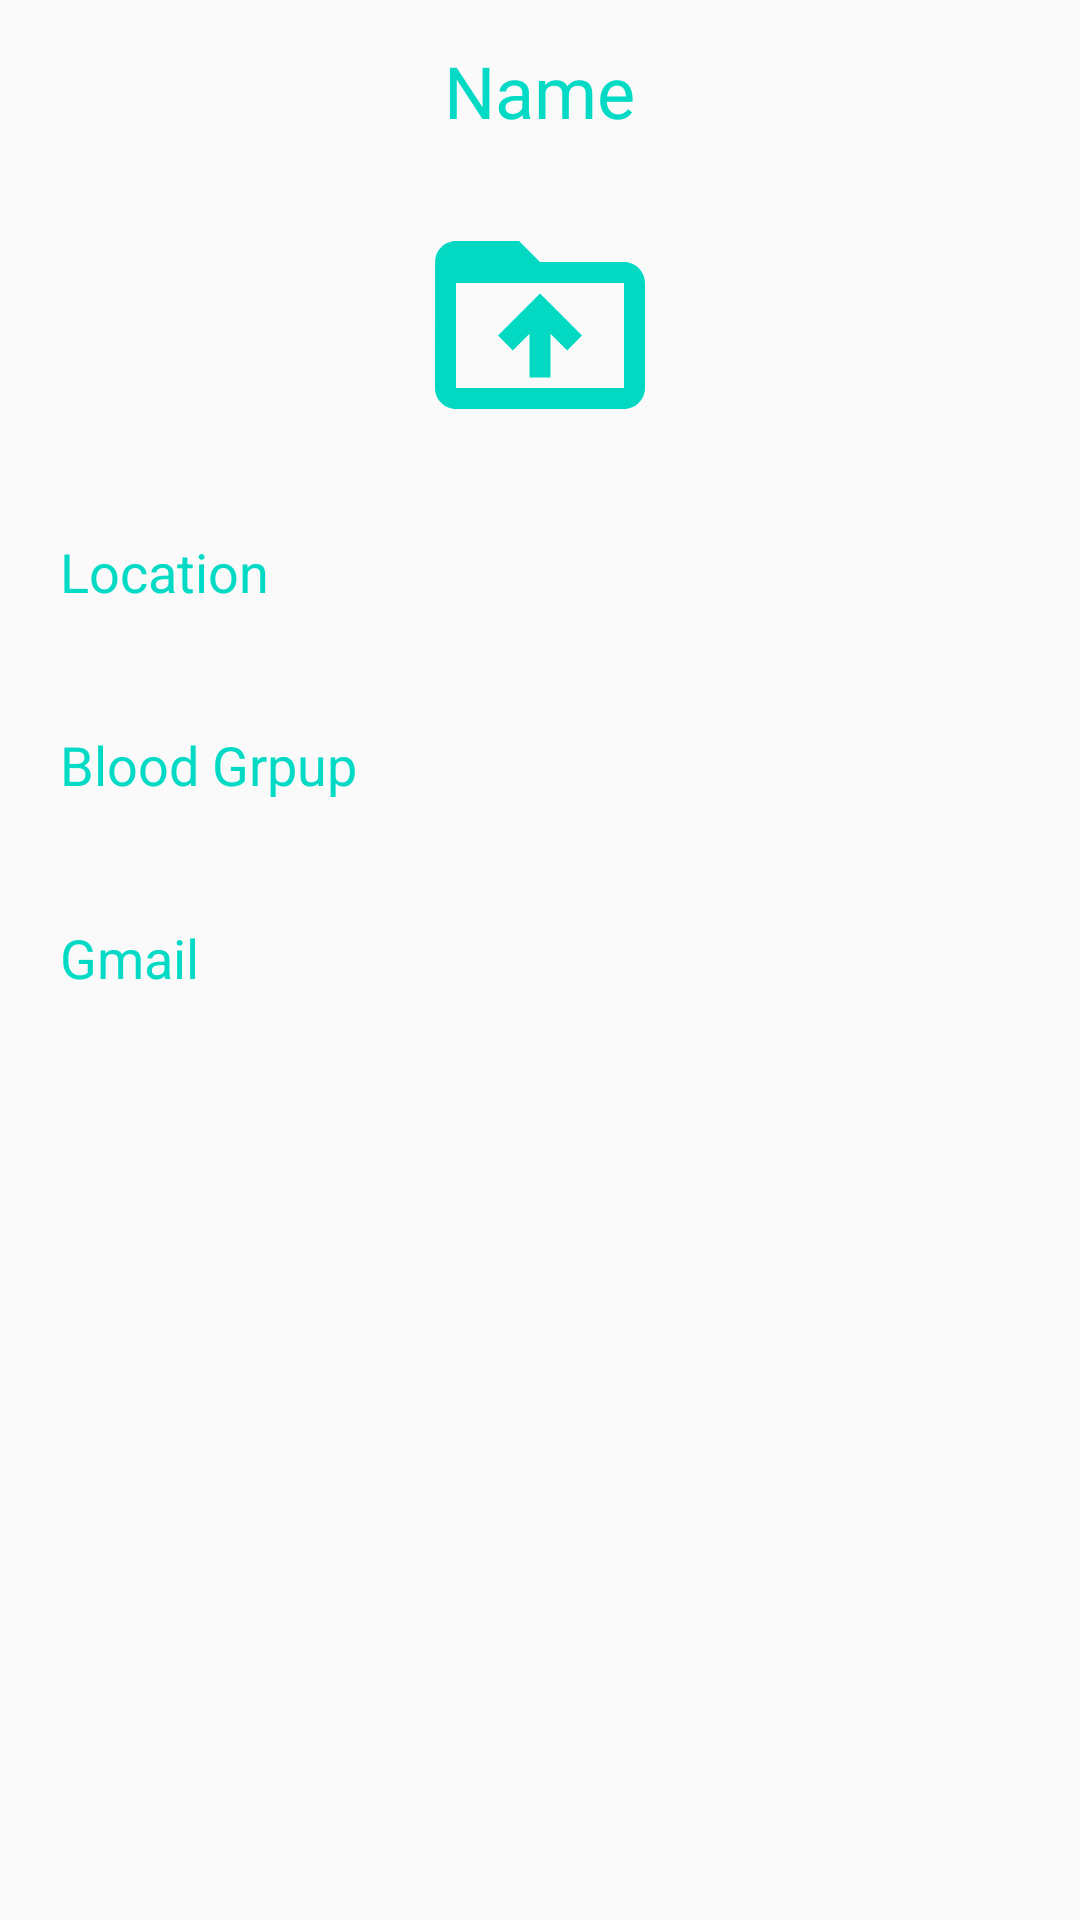

Named icons in this screenshot (1080px×1920px) and their centers, (x,y):
food drive folder upload: (540,325)
